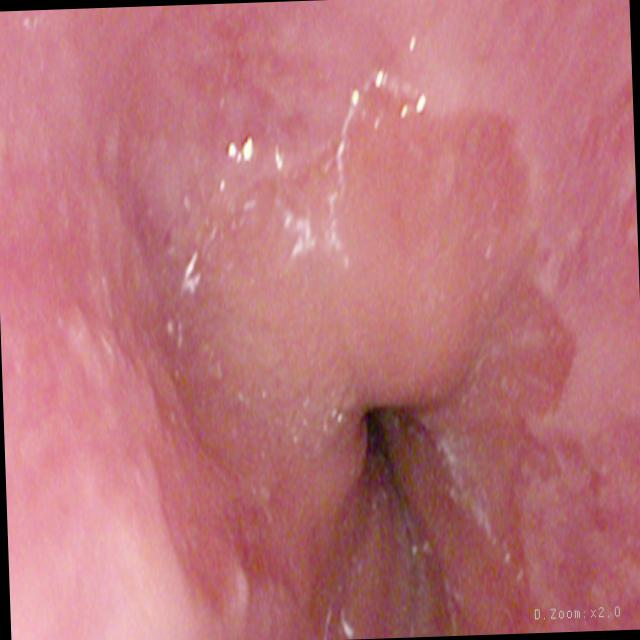Normal-Z-Line: (90, 4, 616, 640)
